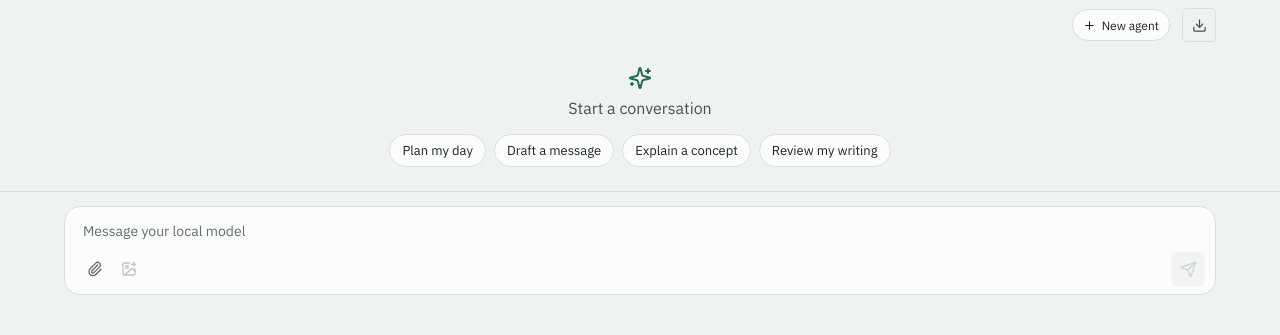
LocalAIChat › image generation › restores the prompt and shows the error when generation fails
This screenshot has width=1280, height=335.
Type "A lighthouse" into the text box named "Message local AI" at (642, 232), box [79, 217, 1205, 246]
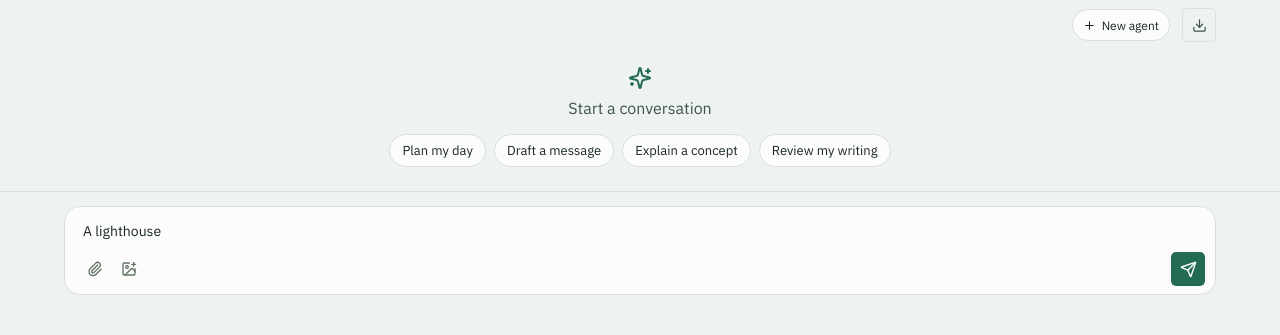
Click the button named "Generate image" at (129, 269), box [113, 253, 145, 285]
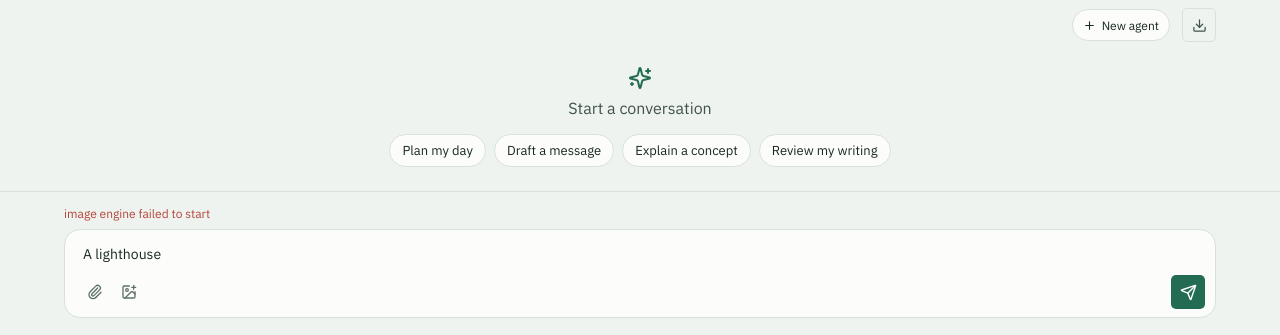
expect the text "image engine failed to start" is shown: met, box [64, 206, 210, 221]
